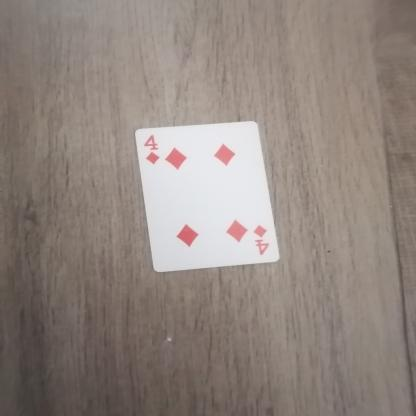4D: (138, 130, 164, 166), (254, 219, 274, 259)
